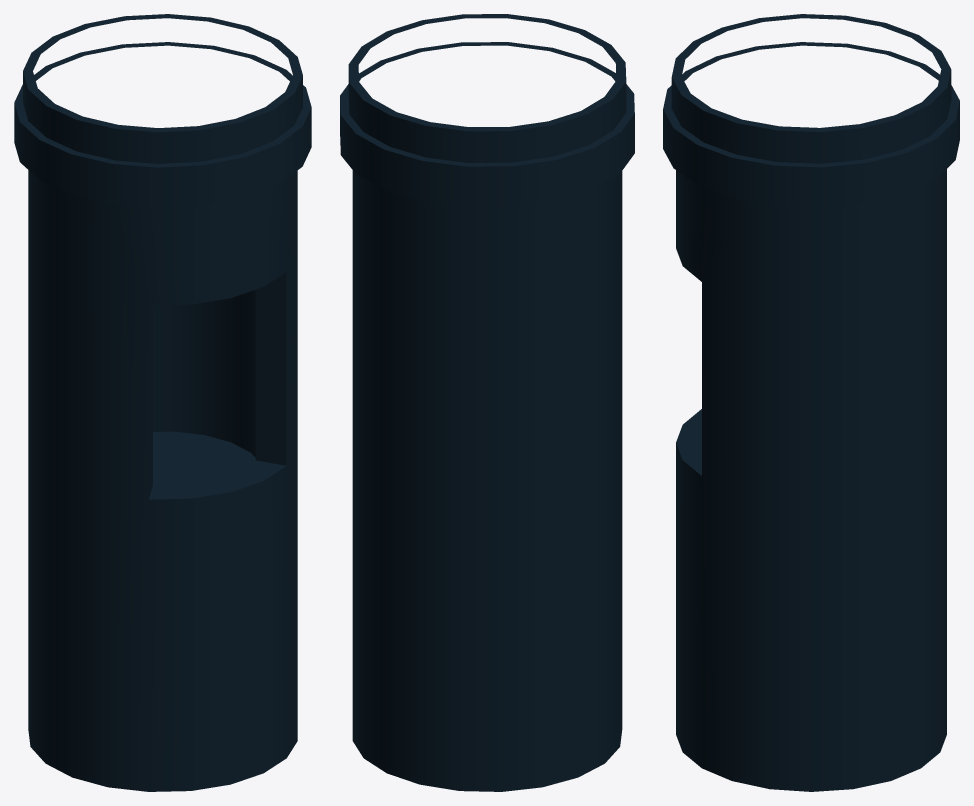
Rendered from PBR - Metallic Roughness Alpha-blend.glb.
3 renders of one model, left to right at view 1: azimuth 30°, elevation 25°; view 2: azimuth 150°, elevation 25°; view 3: azimuth 270°, elevation 25°, orthographic.
Parts seen in each view (by area): view 1: pCylinder5; view 2: pCylinder5; view 3: pCylinder5.
Boxes of the visible parts, x1=… form: pCylinder5: x1=14, y1=14, x2=311, y2=791; pCylinder5: x1=340, y1=14, x2=634, y2=791; pCylinder5: x1=663, y1=14, x2=959, y2=791.
Size of the model in its own units: 0.569 by 1.4 by 0.569.
Materials: 1 (1 with a texture image).
